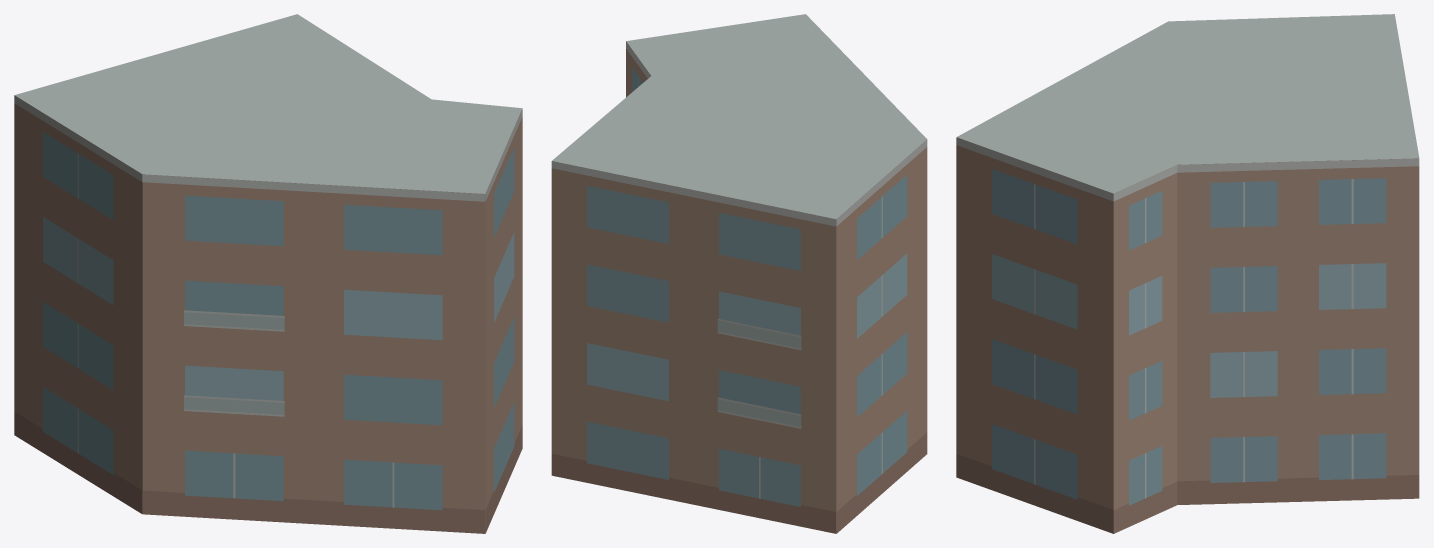
File: survey-upis-32696401.glb
3 views of the same model, side by side, from view 1: azimuth 30°, elevation 25°; view 2: azimuth 150°, elevation 25°; view 3: azimuth 270°, elevation 25° (orthographic). The views are drawn at different scales.
Visible parts, largest first — view 1: survey-upis-32696401.tmp; view 2: survey-upis-32696401.tmp; view 3: survey-upis-32696401.tmp.
Boxes of the visible parts, box(x1,y1,x2,y2) form: survey-upis-32696401.tmp: box(14, 14, 522, 533); survey-upis-32696401.tmp: box(551, 14, 927, 533); survey-upis-32696401.tmp: box(956, 14, 1419, 533).
Size of the model in its own units: 11.9 by 10.5 by 12.96.
